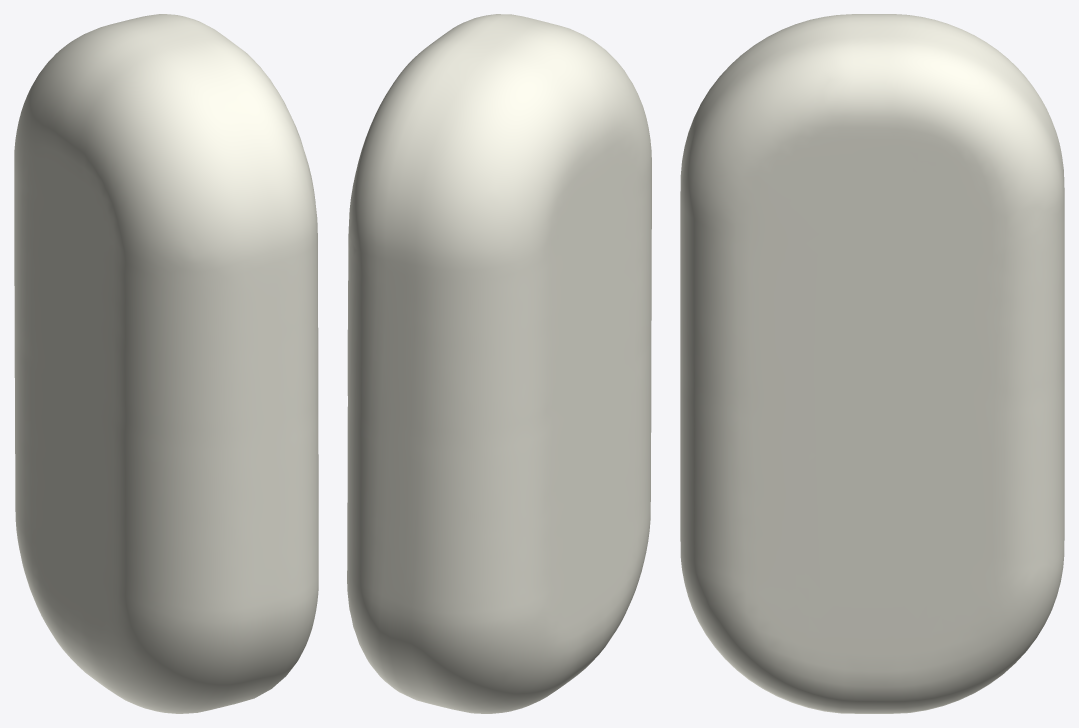
File: Capsule_Pill_Individual_Beige.glb
3 views of the same model, side by side, from view 1: azimuth 30°, elevation 25°; view 2: azimuth 150°, elevation 25°; view 3: azimuth 270°, elevation 25° (orthographic). The views are drawn at different scales.
Visible parts, largest first — view 1: Capsule_Pill.003; view 2: Capsule_Pill.003; view 3: Capsule_Pill.003.
Part boxes in pixels (x1,y1,x2,y2): Capsule_Pill.003: (14, 14, 318, 713); Capsule_Pill.003: (347, 14, 651, 713); Capsule_Pill.003: (680, 14, 1064, 713).
Bounding box in the file's own units: 0.6131 × 2.16 × 1.13.
Materials: 1 (1 with a texture image).
